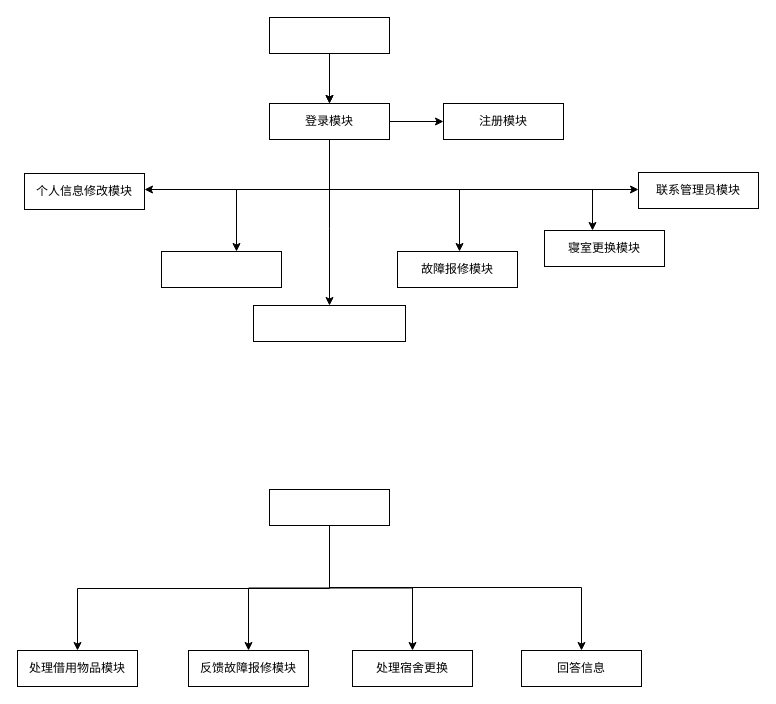
The diagram is 776 pixels wide and 704 high, and some of its shapes have lost their labels. Here are the shapes that lost their labels. From the top down, the centre of each, then its label:
[329,35]: 用户
[221,269]: 出行提示获取模块
[329,323]: 宿舍公共物品使用登记模块
[329,507]: 管理员
